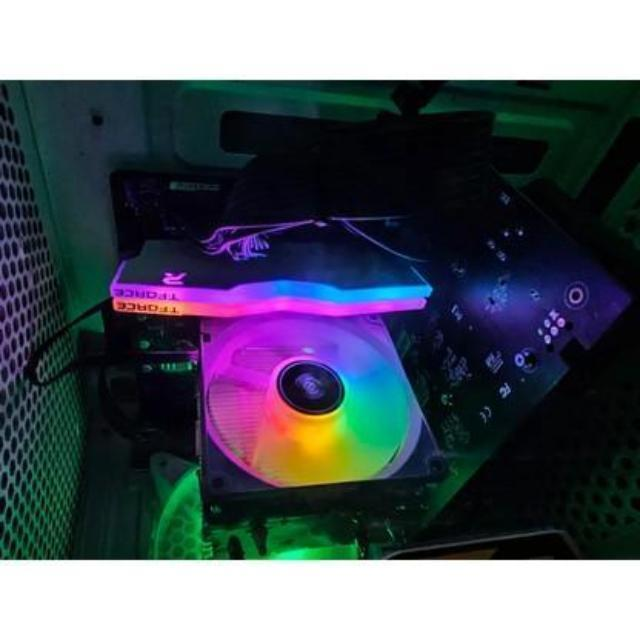CPU_Fan: (188, 315, 436, 520)
